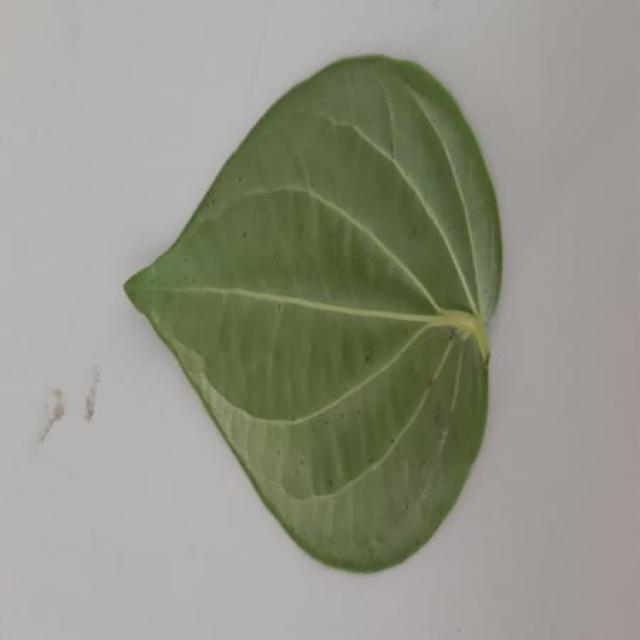betel: (125, 56, 502, 571)
